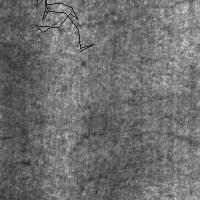crazing: (68, 130, 200, 194), (56, 3, 173, 66), (35, 0, 93, 51)
